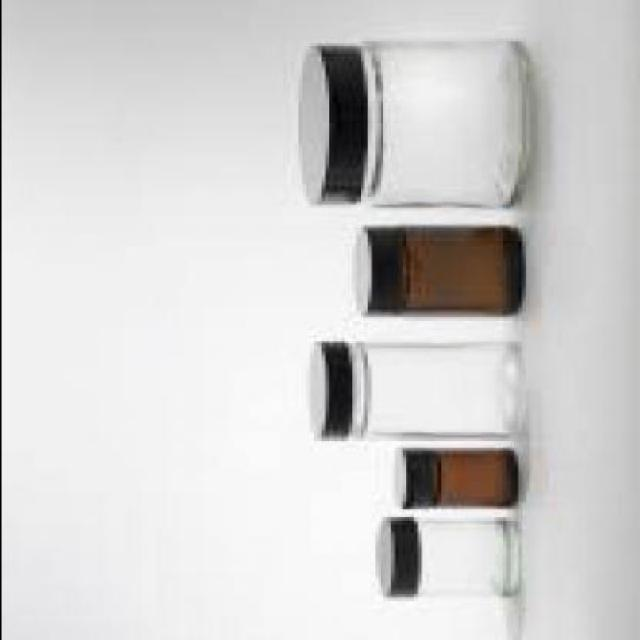GLASS: (358, 38, 528, 205), (343, 338, 525, 436), (397, 222, 520, 315), (409, 514, 516, 594), (428, 448, 517, 504)
METAL: (301, 43, 370, 200), (348, 222, 397, 315), (304, 338, 350, 436), (370, 514, 413, 594), (386, 445, 428, 504)
